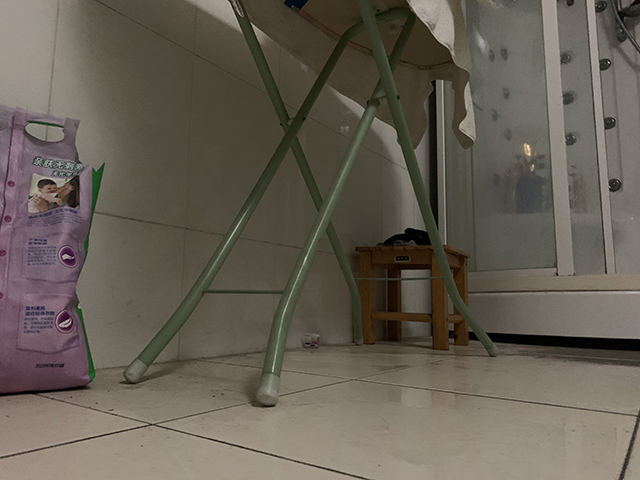stool: (354, 243, 470, 352)
